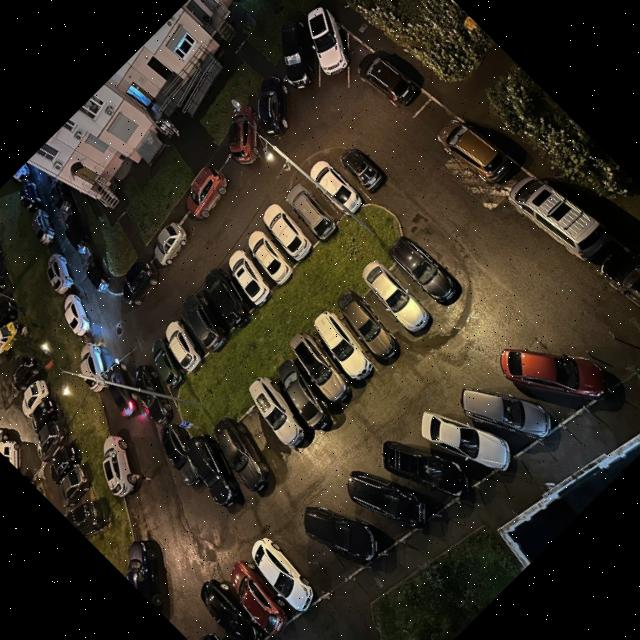car: (506, 175, 609, 260), (497, 350, 610, 400), (421, 412, 511, 473), (382, 440, 475, 495), (344, 471, 425, 530), (362, 260, 429, 331), (436, 119, 509, 184), (250, 538, 312, 612), (462, 389, 553, 438), (228, 560, 286, 634), (211, 416, 266, 494), (389, 236, 454, 302), (336, 290, 398, 359), (289, 332, 349, 402), (303, 506, 377, 562), (312, 310, 370, 380), (183, 433, 237, 507), (198, 580, 261, 640), (248, 378, 303, 446), (278, 360, 329, 430), (356, 51, 414, 106), (286, 182, 336, 241), (127, 539, 164, 616), (310, 160, 361, 215), (204, 268, 247, 330), (183, 291, 226, 352), (308, 6, 346, 75), (599, 244, 640, 306), (262, 206, 308, 261), (158, 423, 198, 485), (133, 364, 172, 425), (247, 231, 290, 285), (227, 249, 267, 305), (185, 165, 227, 218), (278, 20, 311, 87), (102, 434, 134, 499), (337, 147, 381, 192), (227, 102, 257, 164), (258, 74, 287, 138), (165, 319, 200, 372), (105, 362, 138, 417), (120, 261, 157, 307), (151, 339, 183, 388), (153, 221, 186, 265), (57, 465, 89, 508), (78, 344, 105, 393), (64, 502, 102, 536), (49, 445, 78, 485), (36, 421, 63, 461), (20, 379, 47, 418), (46, 253, 71, 294), (63, 295, 87, 336), (31, 395, 55, 434), (11, 356, 37, 391), (30, 209, 52, 245), (0, 321, 21, 353)
